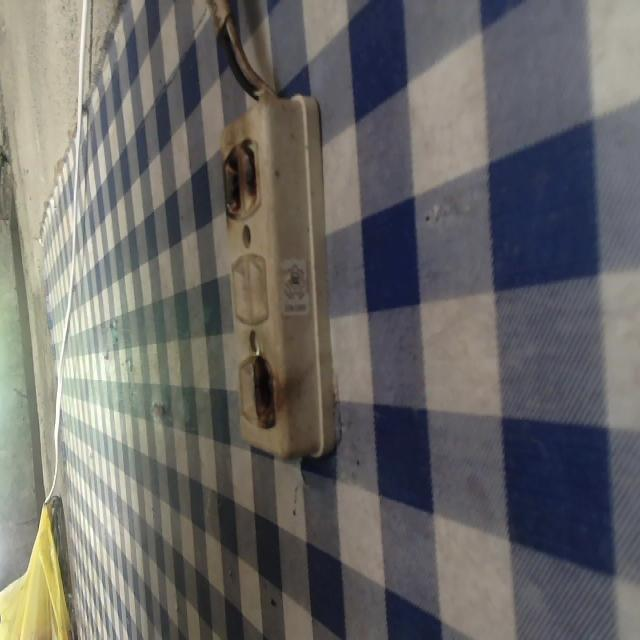-: (214, 132, 268, 221), (245, 352, 285, 440)
